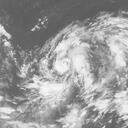cyclone: (49, 41, 84, 78)
